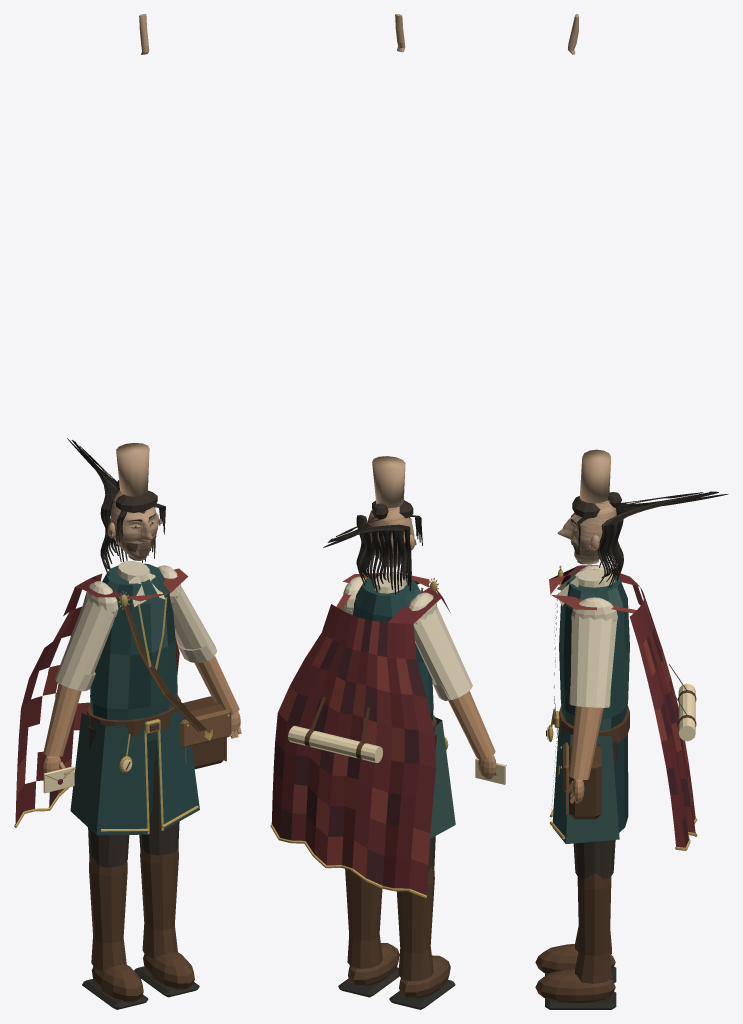
The model's file is courier.glb.
3 views of the same model, side by side, from view 1: azimuth 30°, elevation 25°; view 2: azimuth 150°, elevation 25°; view 3: azimuth 270°, elevation 25° (orthographic).
Visible parts, largest first — view 1: Waistcoat, Split_coat_R, Cloak_folds, Boot_shaft_R, Boot_shaft_L, Split_coat_L, Linen_sleeve_R, Neck, Face, Forearm_R, Trouser_thigh_L, Linen_sleeve_L (+14 smaller); view 2: Cloak_folds, Boot_shaft_R, Boot_shaft_L, Linen_sleeve_R, Waistcoat, Split_coat_R, Map_roll, Neck, Forearm_R, Boot_toe_R, Boot_toe_L, Face (+2 smaller); view 3: Cloak_folds, Waistcoat, Linen_sleeve_L, Boot_shaft_L, Split_coat_L, Boot_toe_L, Forearm_L, Face, Trouser_thigh_L, Neck, Messenger_satchel, Back_coat (+6 smaller).
Part boxes in pixels (bbox=[...]): Waistcoat: bbox=[90, 563, 177, 741]; Split_coat_R: bbox=[70, 712, 147, 835]; Cloak_folds: bbox=[15, 568, 188, 824]; Boot_shaft_R: bbox=[89, 856, 127, 970]; Boot_shaft_L: bbox=[140, 846, 178, 958]; Split_coat_L: bbox=[156, 702, 199, 831]; Linen_sleeve_R: bbox=[55, 596, 116, 691]; Neck: bbox=[116, 443, 149, 496]; Face: bbox=[110, 489, 158, 560]; Forearm_R: bbox=[43, 683, 81, 756]; Trouser_thigh_L: bbox=[139, 741, 179, 855]; Linen_sleeve_L: bbox=[171, 586, 216, 662]; Cloak_folds: bbox=[271, 572, 450, 895]; Boot_shaft_R: bbox=[396, 866, 434, 981]; Boot_shaft_L: bbox=[345, 869, 382, 968]; Linen_sleeve_R: bbox=[413, 605, 472, 700]; Waistcoat: bbox=[353, 575, 433, 720]; Split_coat_R: bbox=[430, 717, 455, 838]; Map_roll: bbox=[288, 726, 382, 762]; Neck: bbox=[372, 456, 405, 508]; Forearm_R: bbox=[448, 691, 495, 759]; Boot_toe_R: bbox=[399, 955, 450, 998]; Boot_toe_L: bbox=[348, 943, 399, 986]; Face: bbox=[367, 503, 414, 567]; Cloak_folds: bbox=[549, 565, 695, 847]; Waistcoat: bbox=[559, 569, 629, 730]; Linen_sleeve_L: bbox=[570, 616, 617, 707]; Boot_shaft_L: bbox=[575, 872, 611, 983]; Split_coat_L: bbox=[552, 718, 619, 843]; Boot_toe_L: bbox=[535, 969, 615, 1003]; Forearm_L: bbox=[569, 706, 603, 779]; Face: bbox=[557, 500, 616, 564]; Trouser_thigh_L: bbox=[573, 740, 617, 879]; Neck: bbox=[579, 449, 610, 503]; Messenger_satchel: bbox=[569, 744, 601, 819]; Back_coat: bbox=[614, 734, 628, 832].
Bounding box in the file's own units: 0.7395 × 3.42 × 0.6144.
